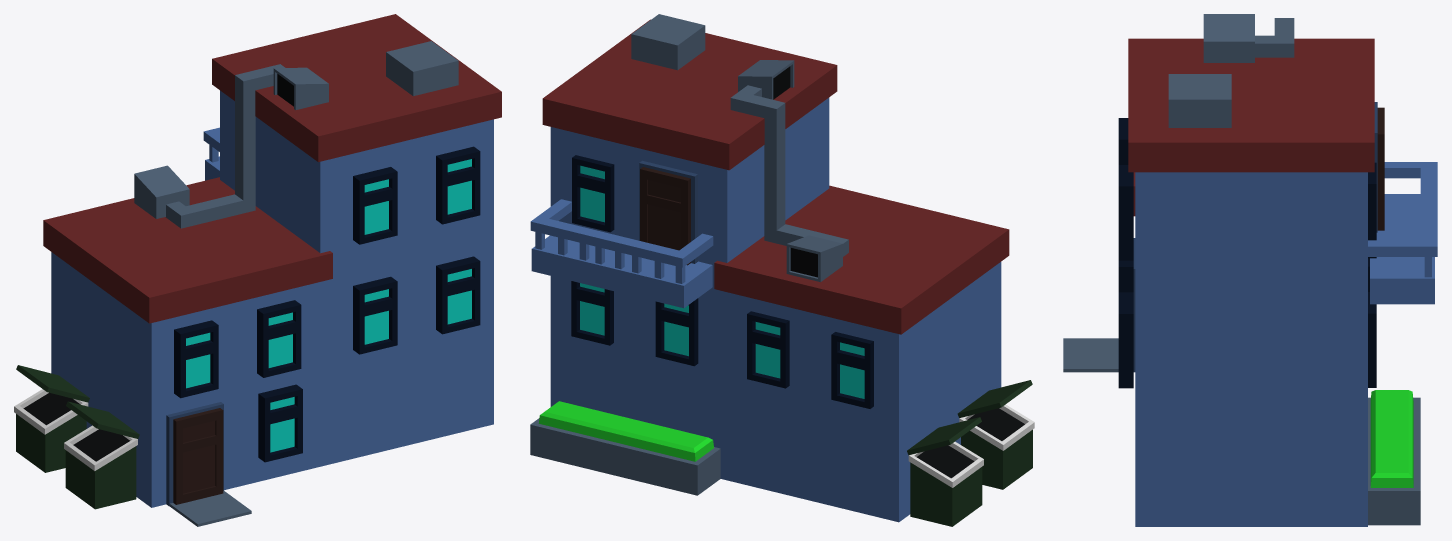
Rendered from TownHouse_1.fbx.
3 renders of one model, left to right at view 1: azimuth 30°, elevation 25°; view 2: azimuth 150°, elevation 25°; view 3: azimuth 270°, elevation 25°, orthographic. The views are drawn at different scales.
Parts seen in each view (by area): view 1: TownHouse_1; view 2: TownHouse_1; view 3: TownHouse_1.
Part boxes in pixels (x1,y1,x2,y2): TownHouse_1: [14, 14, 501, 526]; TownHouse_1: [530, 14, 1034, 526]; TownHouse_1: [1063, 14, 1437, 526].
Bounding box in the file's own units: 45.63 × 39.98 × 32.52.
